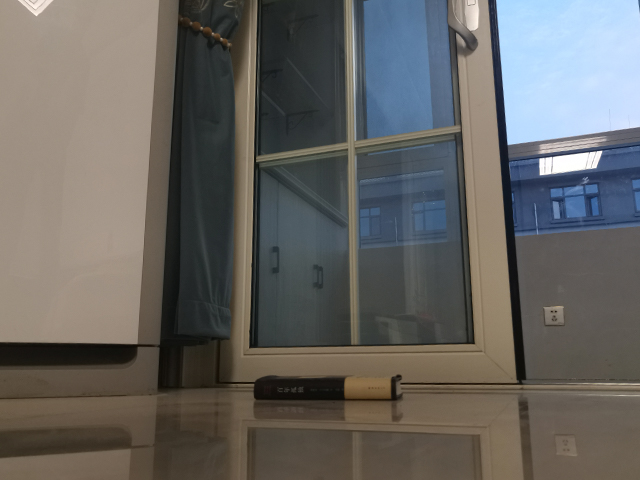book: (252, 372, 406, 402)
cabinet: (255, 164, 352, 347)
curtain: (162, 1, 243, 348)
